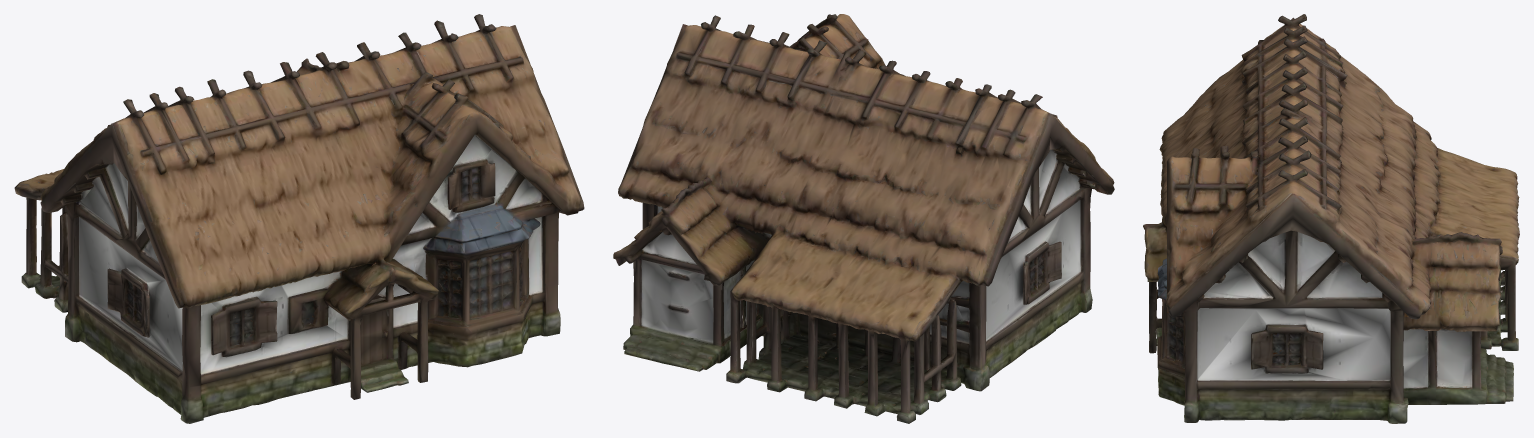
The model's file is house-4-opt.glb.
The picture shows the model from 3 angles, left to right: view 1: azimuth 30°, elevation 25°; view 2: azimuth 150°, elevation 25°; view 3: azimuth 270°, elevation 25°; orthographic projection. The views are drawn at different scales.
Bounding box in the file's own units: 1.91 × 1.25 × 1.72.
Materials: 1 (1 with a texture image).
